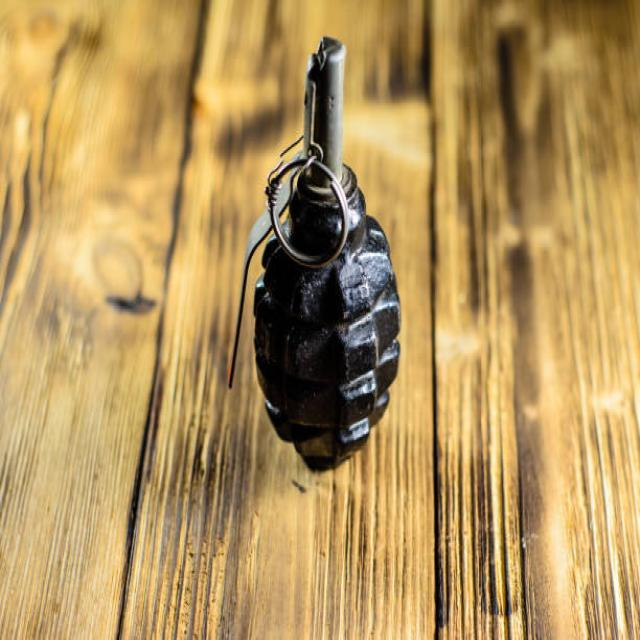grenade: (226, 28, 408, 477)
